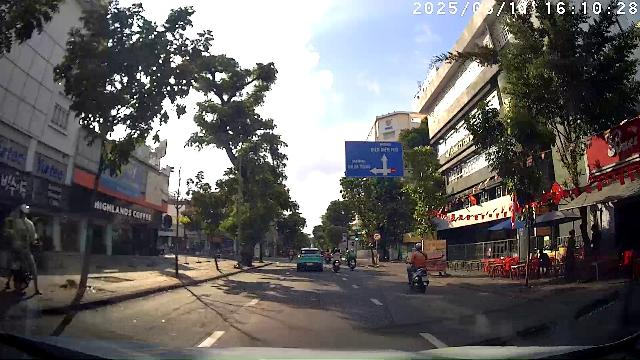123b-cam-re-phai: (373, 232, 381, 240)
